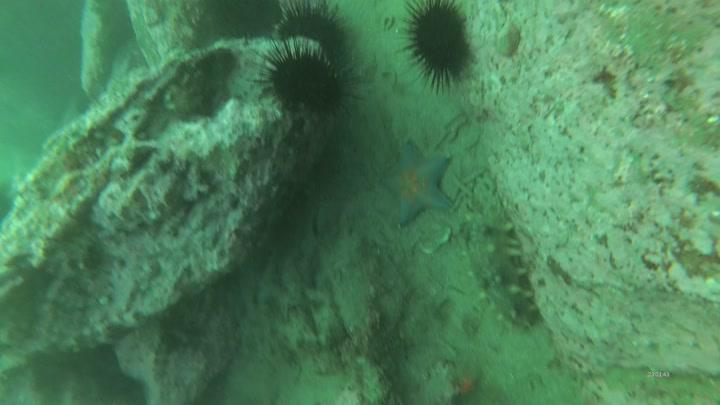urchin: (399, 4, 482, 93), (261, 46, 350, 116), (271, 2, 346, 57)
